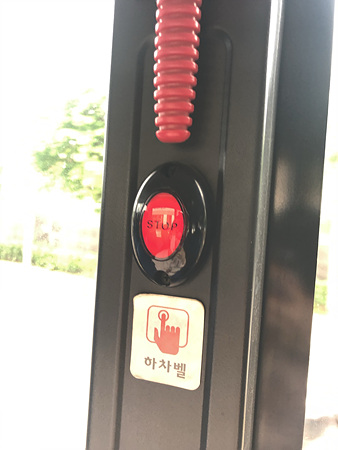bell: (132, 162, 208, 285)
